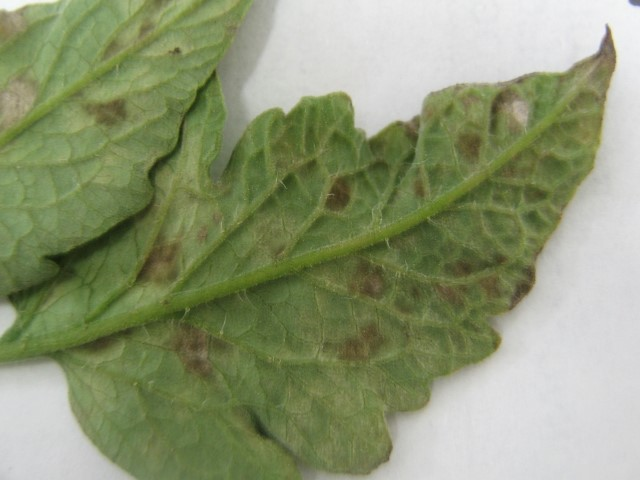cladosporium: (172, 315, 225, 384), (330, 318, 390, 373), (442, 255, 508, 305), (136, 235, 197, 284), (89, 88, 137, 131), (324, 175, 368, 220), (450, 133, 490, 173), (359, 267, 394, 300)
